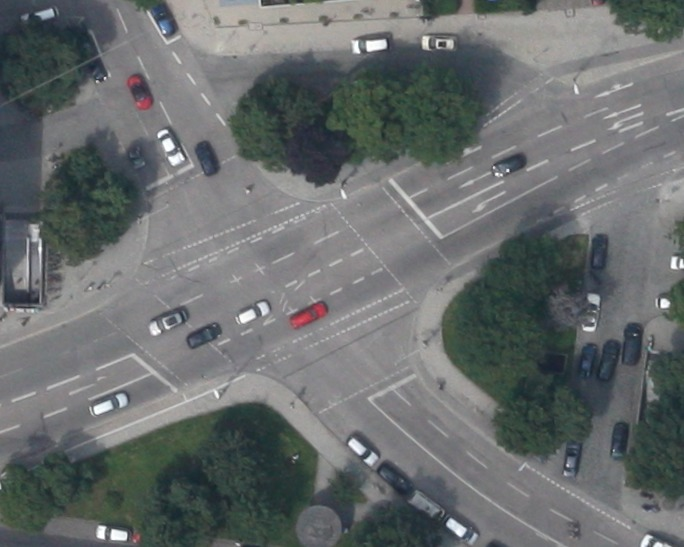car: (373, 460, 413, 496), (144, 305, 188, 337), (439, 512, 479, 547), (153, 126, 186, 167), (407, 489, 446, 523), (87, 390, 130, 418), (288, 299, 328, 329), (595, 337, 621, 381), (232, 298, 270, 327), (124, 72, 152, 111), (148, 1, 177, 37), (184, 321, 221, 349), (345, 435, 378, 466), (489, 151, 525, 179), (19, 3, 59, 28), (192, 139, 218, 177), (620, 322, 643, 364), (608, 420, 630, 460), (581, 291, 600, 333), (350, 34, 389, 54), (561, 440, 581, 478), (94, 523, 131, 542), (421, 33, 457, 51), (577, 344, 596, 378), (85, 56, 108, 84), (589, 233, 607, 268), (126, 145, 146, 169)
